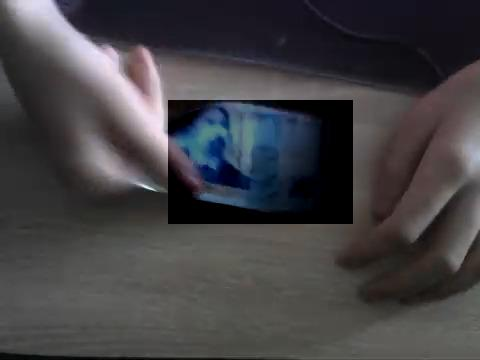20leva: (168, 100, 353, 224)
